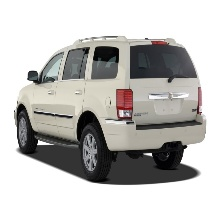no damage: (13, 35, 207, 182)
